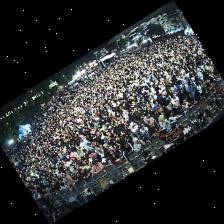person: (121, 142, 134, 166), (171, 93, 182, 112), (148, 122, 161, 137), (162, 92, 173, 109), (109, 149, 122, 163), (92, 160, 104, 174), (165, 110, 180, 121), (61, 173, 74, 185), (133, 138, 145, 151), (111, 138, 121, 153), (159, 115, 170, 128), (138, 131, 150, 142), (79, 169, 91, 180), (153, 108, 164, 120), (144, 117, 157, 127), (188, 81, 196, 97), (104, 143, 113, 157), (96, 147, 105, 161), (139, 124, 149, 136), (78, 137, 88, 149), (182, 100, 194, 110), (130, 121, 139, 134), (118, 132, 129, 142), (58, 180, 68, 191), (194, 90, 203, 102), (129, 132, 138, 144), (68, 162, 77, 174), (64, 166, 74, 176), (113, 122, 122, 133), (135, 106, 144, 117), (81, 160, 92, 169), (50, 184, 61, 193), (196, 77, 202, 92), (76, 156, 84, 166), (33, 191, 42, 199), (122, 126, 131, 134), (102, 158, 110, 167), (76, 149, 85, 157), (206, 80, 213, 90), (210, 77, 218, 85), (139, 114, 145, 124), (123, 110, 129, 120), (47, 187, 53, 197), (92, 154, 98, 161), (88, 153, 93, 161)
